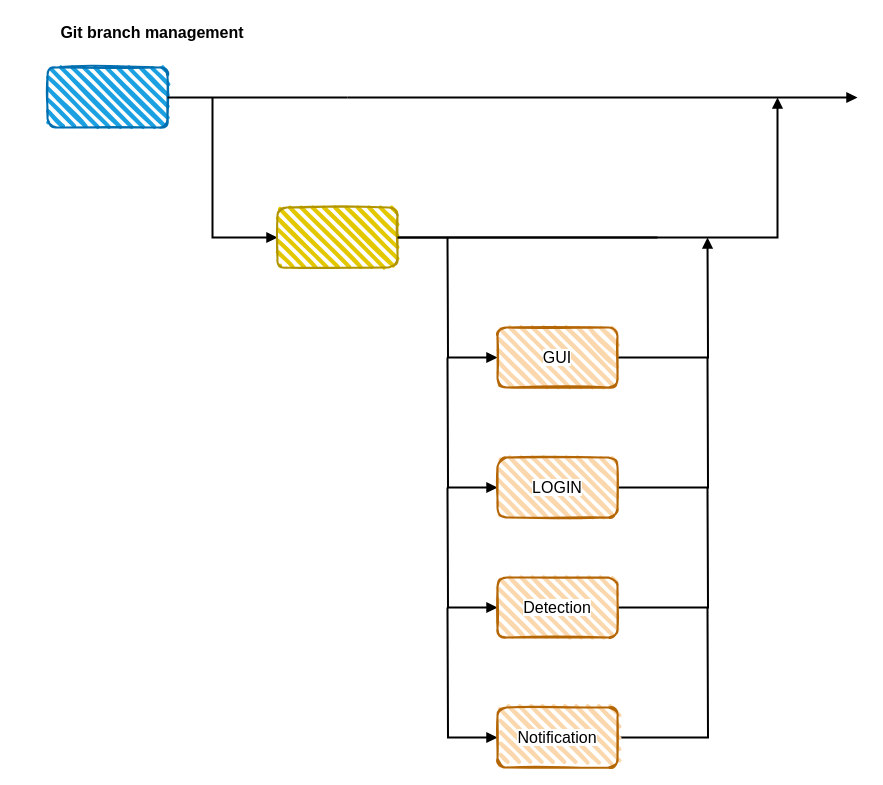
Some shapes in this 883 by 785 pixel diagram are drawn without their labels. Here are the shapes that lost their labels. From the top down, the centre of each, then its label:
(107,97): Main
(337,237): Dev
